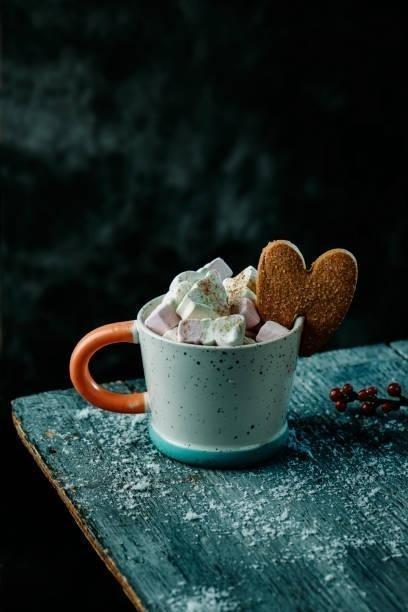cup-handle: (68, 287, 306, 469)
